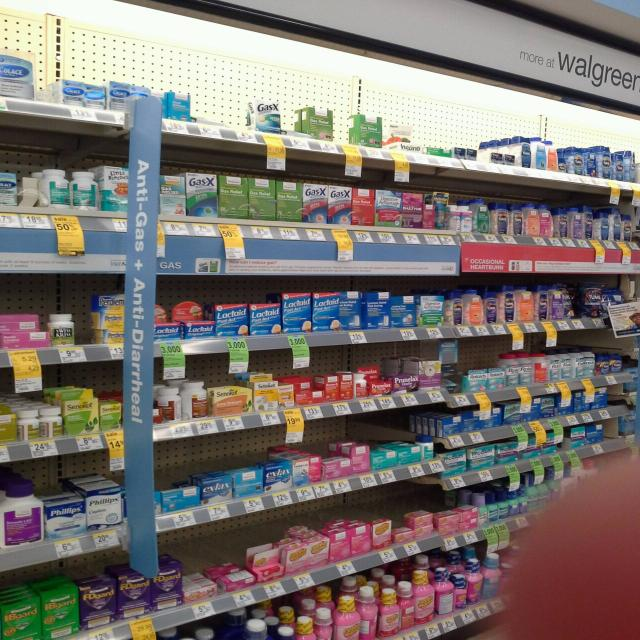empty: (193, 78, 251, 130)
